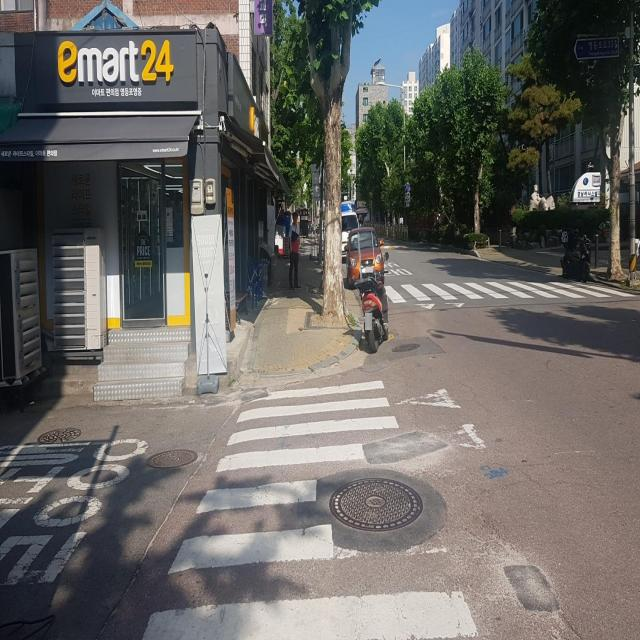횡단보도: (142, 378, 479, 639), (359, 274, 610, 308)
